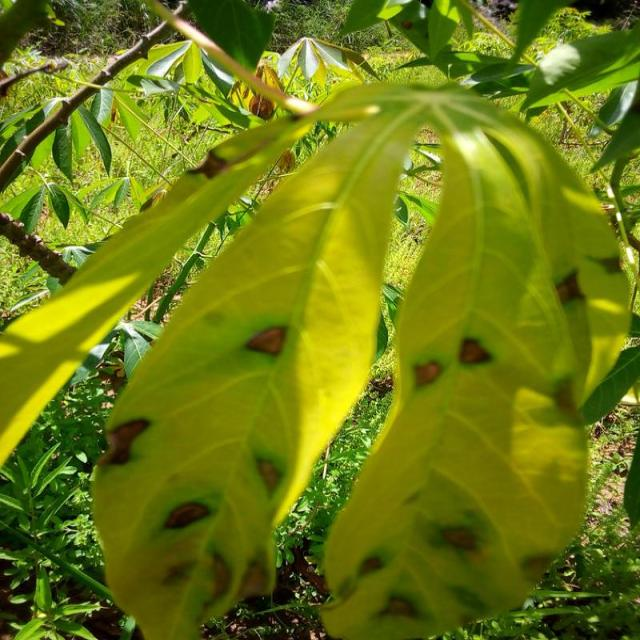cassava leaf: (90, 86, 424, 637), (317, 110, 628, 638)
